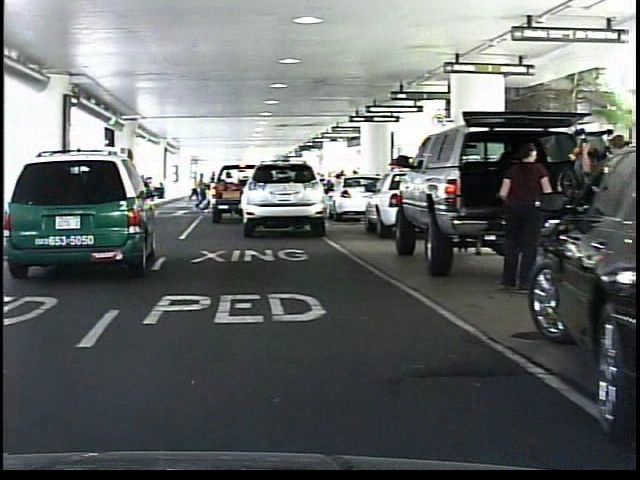person: (487, 136, 551, 290)
